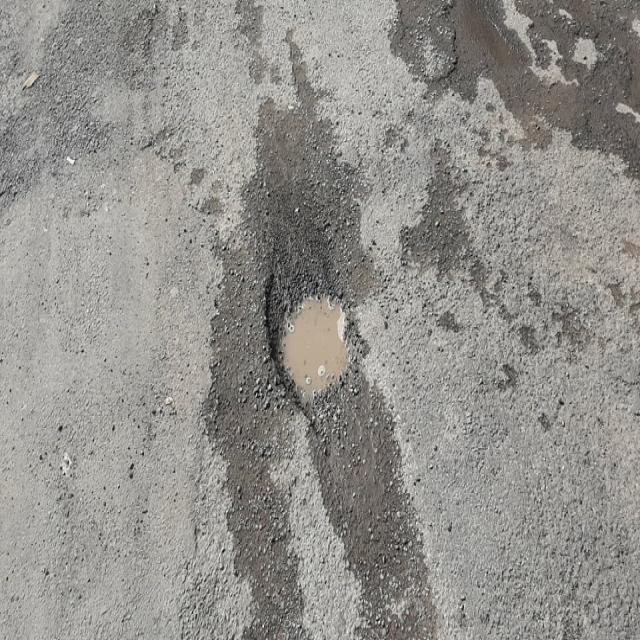Pothole: (246, 215, 392, 490)
